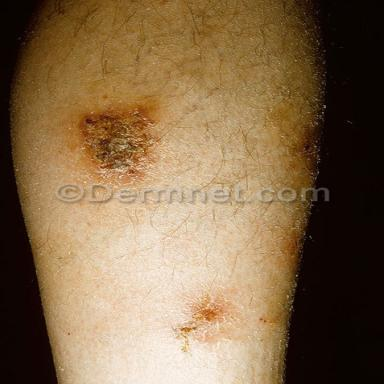Impetigo: (82, 101, 157, 179), (174, 295, 234, 351)
